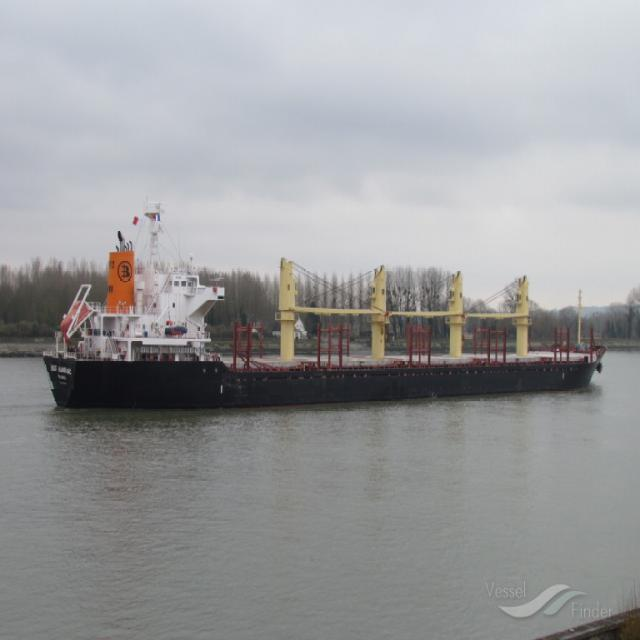OCR: (44, 360, 74, 390)
